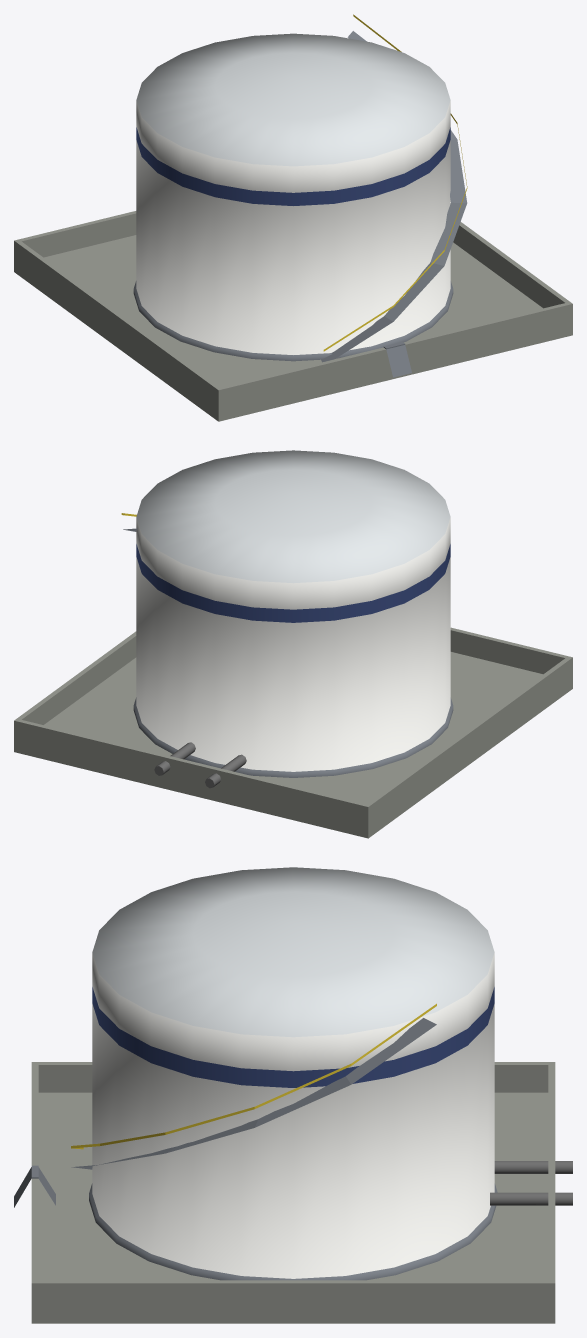
Rendered from mashup-tank-top-prebuilt.fbx.
3 views of the same model, one above another, from view 1: azimuth 30°, elevation 25°; view 2: azimuth 150°, elevation 25°; view 3: azimuth 270°, elevation 25° (orthographic). The views are drawn at different scales.
Visible parts, largest first — view 1: a1056/0/mashup-tank-top-prebuilt; view 2: a1056/0/mashup-tank-top-prebuilt; view 3: a1056/0/mashup-tank-top-prebuilt.
Part boxes in pixels (left/top/right/bottom): a1056/0/mashup-tank-top-prebuilt: left=14, top=14, right=572, bottom=421; a1056/0/mashup-tank-top-prebuilt: left=14, top=450, right=572, bottom=838; a1056/0/mashup-tank-top-prebuilt: left=14, top=867, right=572, bottom=1323.
Size of the model in its own units: 22.4 by 13.7 by 23.9.
